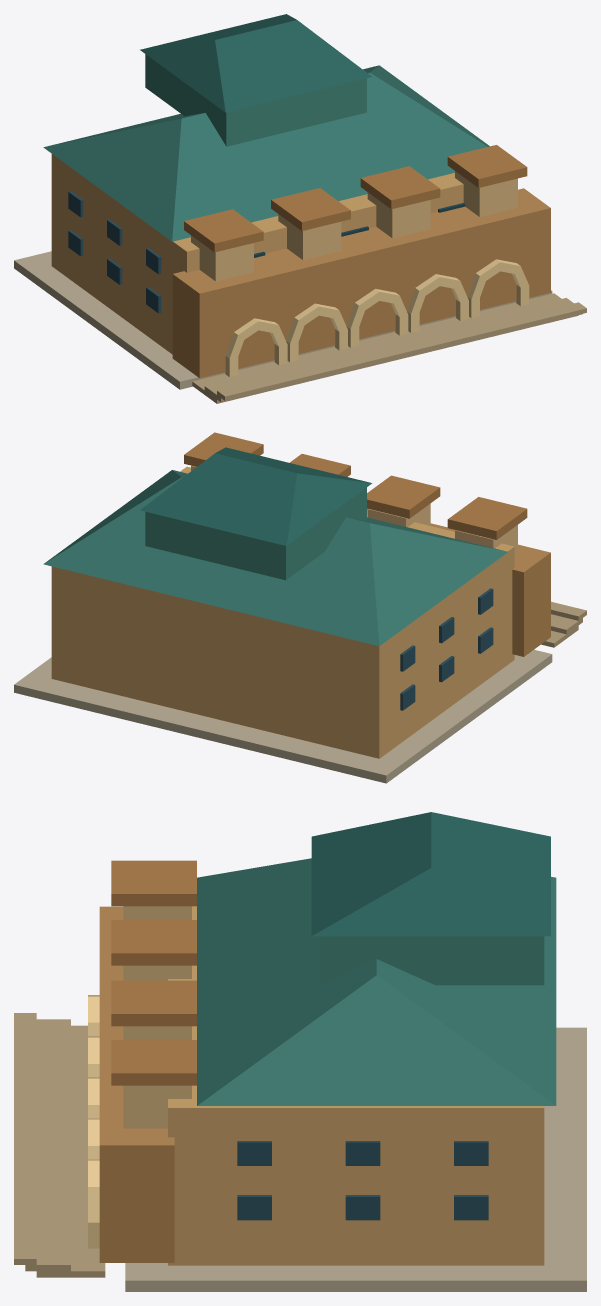
File: teatro-colon.glb
3 renders of one model, top to bottom at view 1: azimuth 30°, elevation 25°; view 2: azimuth 150°, elevation 25°; view 3: azimuth 270°, elevation 25°, orthographic. The views are drawn at different scales.
Parts seen in each view (by area): view 1: roof, body_C4AF89, body_D6C19A, base_C0B294, body_BDA883, body_E3CFAB, roof_72857C, body_DEC9A2, base_B8B49D, detail_63716A; view 2: body_D6C19A, roof, base_B8B49D, roof_72857C, body_BDA883, body_C4AF89, detail_63716A, body_DEC9A2, base_C0B294; view 3: roof, body_D6C19A, base_B8B49D, base_C0B294, body_BDA883, body_C4AF89, roof_72857C, detail_63716A, body_DEC9A2, body_E3CFAB.
Boxes of the visible parts, box(x1,y1,x2,y2) form: roof: box(43, 14, 489, 241); body_C4AF89: box(172, 188, 550, 378); body_D6C19A: box(51, 154, 463, 354); base_C0B294: box(192, 293, 586, 403); body_BDA883: box(184, 145, 527, 252); body_E3CFAB: box(225, 259, 529, 377); roof_72857C: box(145, 54, 366, 146); body_DEC9A2: box(191, 171, 517, 281); base_B8B49D: box(14, 251, 552, 389); detail_63716A: box(68, 191, 161, 313); body_D6C19A: box(51, 466, 514, 758); roof: box(43, 447, 507, 646); base_B8B49D: box(14, 649, 552, 783); roof_72857C: box(145, 487, 366, 580); body_BDA883: box(184, 432, 527, 539); body_C4AF89: box(367, 508, 550, 656); detail_63716A: box(400, 588, 493, 710); body_DEC9A2: box(191, 465, 517, 554); base_C0B294: box(541, 601, 586, 647); roof: box(197, 812, 556, 1105); body_D6C19A: box(168, 906, 544, 1265); base_B8B49D: box(125, 1027, 586, 1291); base_C0B294: box(14, 1013, 105, 1277); body_BDA883: box(111, 860, 196, 1085); body_C4AF89: box(99, 906, 174, 1262); roof_72857C: box(318, 936, 544, 985); detail_63716A: box(237, 1141, 488, 1220); body_DEC9A2: box(123, 906, 191, 1128); body_E3CFAB: box(88, 995, 99, 1248).
Bounding box in the file's own units: 1 × 0.6 × 0.9571.
